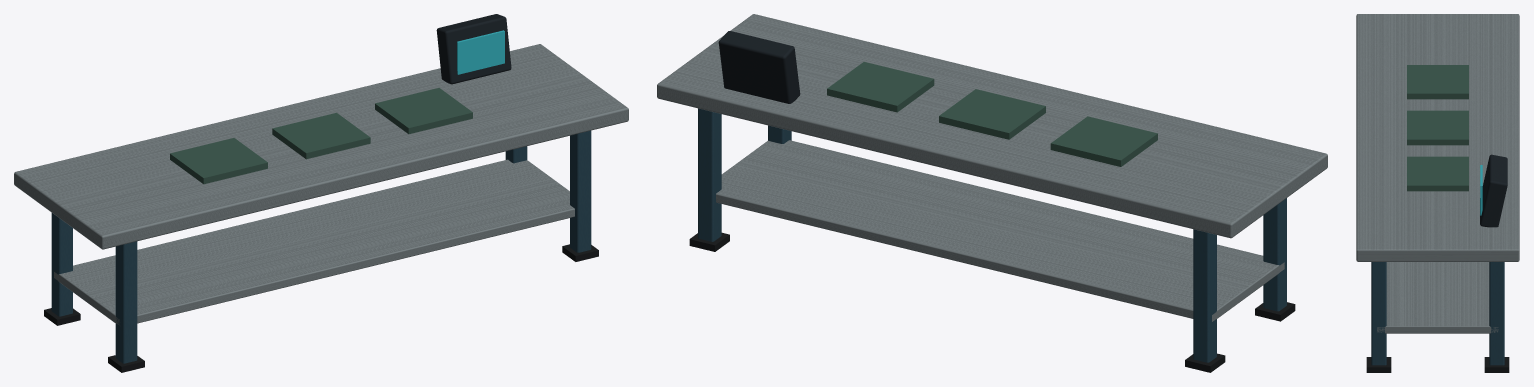
The model's file is workbench.37b968e58feb.glb.
3 renders of one model, left to right at view 1: azimuth 30°, elevation 25°; view 2: azimuth 150°, elevation 25°; view 3: azimuth 270°, elevation 25°, orthographic. The views are drawn at different scales.
Parts seen in each view (by area): view 1: worktop_0001, bottom_shelf_0010, work_tray_0014, work_tray_0015, work_tray_0013, leg_0004, control_panel_0011, leg_0008, leg_0002, display_0012; view 2: worktop_0001, bottom_shelf_0010, control_panel_0011, work_tray_0015, work_tray_0013, work_tray_0014, leg_0002, leg_0006, leg_0004; view 3: worktop_0001, bottom_shelf_0010, work_tray_0014, work_tray_0015, work_tray_0013, leg_0006, leg_0008, control_panel_0011, foot_pad_0007, foot_pad_0009, display_0012.
Boxes of the visible parts, left/top/right/bottom form: worktop_0001: left=14, top=44, right=628, bottom=249; bottom_shelf_0010: left=54, top=159, right=574, bottom=325; work_tray_0014: left=272, top=112, right=370, bottom=159; work_tray_0015: left=375, top=88, right=472, bottom=134; work_tray_0013: left=170, top=138, right=267, bottom=184; leg_0004: left=115, top=241, right=137, bottom=363; control_panel_0011: left=436, top=14, right=511, bottom=84; leg_0008: left=570, top=130, right=591, bottom=252; leg_0002: left=51, top=213, right=72, bottom=316; display_0012: left=457, top=30, right=504, bottom=74; worktop_0001: left=657, top=14, right=1327, bottom=238; bottom_shelf_0010: left=716, top=140, right=1284, bottom=321; control_panel_0011: left=718, top=31, right=800, bottom=103; work_tray_0015: left=827, top=62, right=934, bottom=112; work_tray_0013: left=1050, top=116, right=1157, bottom=166; work_tray_0014: left=939, top=89, right=1045, bottom=139; leg_0002: left=1193, top=229, right=1216, bottom=362; leg_0006: left=698, top=108, right=721, bottom=241; leg_0004: left=1263, top=198, right=1286, bottom=311; worktop_0001: left=1356, top=14, right=1519, bottom=261; bottom_shelf_0010: left=1377, top=262, right=1498, bottom=333; work_tray_0014: left=1407, top=110, right=1468, bottom=145; work_tray_0015: left=1407, top=156, right=1468, bottom=191; work_tray_0013: left=1407, top=65, right=1468, bottom=99; leg_0006: left=1489, top=262, right=1504, bottom=365; leg_0008: left=1371, top=262, right=1386, bottom=365; control_panel_0011: left=1480, top=154, right=1507, bottom=227; foot_pad_0007: left=1484, top=357, right=1509, bottom=372; foot_pad_0009: left=1366, top=357, right=1391, bottom=372; display_0012: left=1480, top=165, right=1482, bottom=215.
Size of the model in its own units: 3.6 by 1.28 by 1.05.
6 materials, 3 textured.
